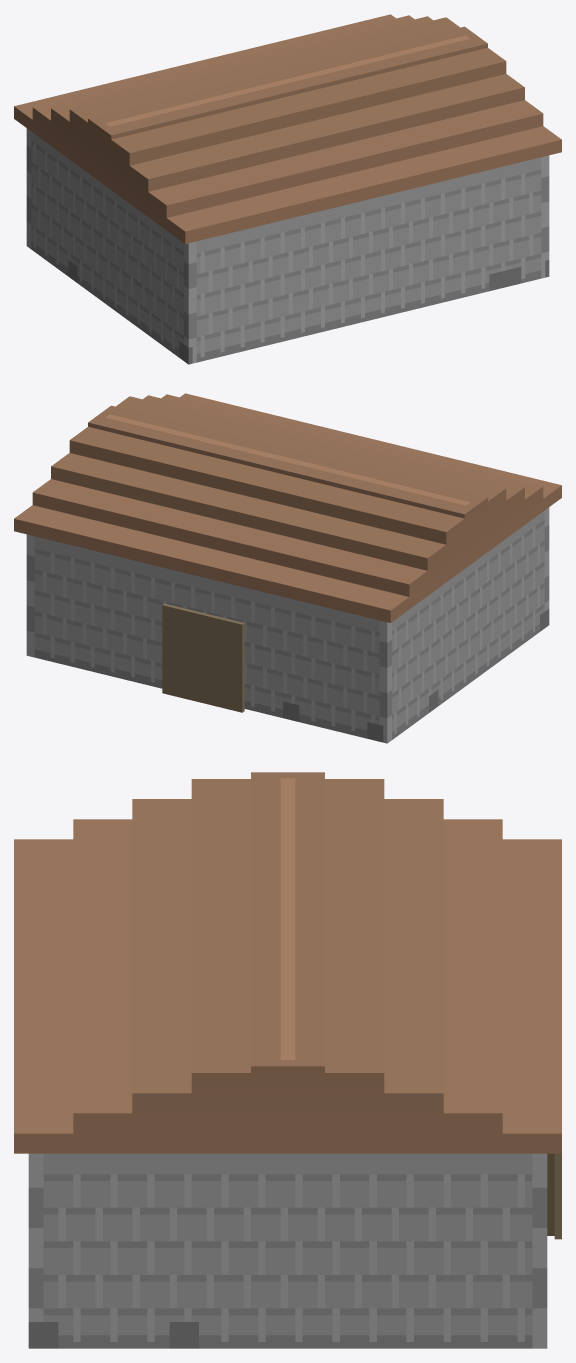
File: establo_04.glb
3 views of the same model, one above another, from view 1: azimuth 30°, elevation 25°; view 2: azimuth 150°, elevation 25°; view 3: azimuth 270°, elevation 25° (orthographic). The views are drawn at different scales.
Parts seen in each view (by area): view 1: establo_04; view 2: establo_04; view 3: establo_04.
Boxes of the visible parts, bbox=[...] form: establo_04: bbox=[14, 14, 561, 364]; establo_04: bbox=[14, 393, 561, 743]; establo_04: bbox=[14, 772, 561, 1348].
Size of the model in its own units: 9.4 by 4.3 by 7.4.
